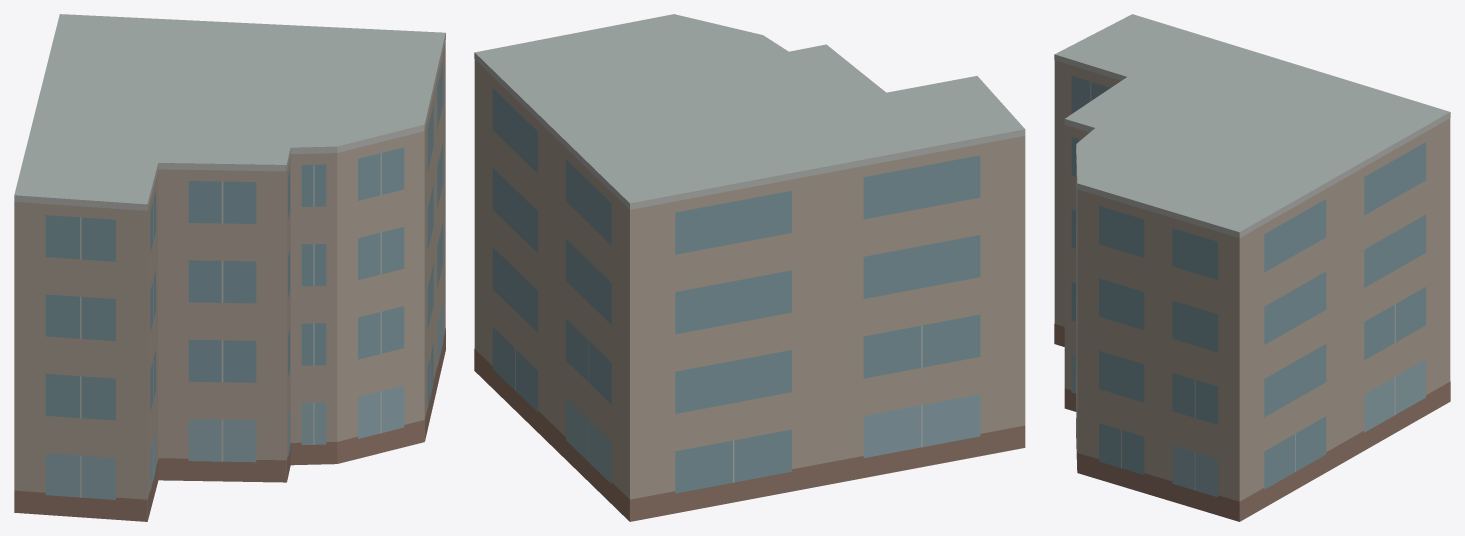
File: survey-upis-32867587.glb
3 views of the same model, side by side, from view 1: azimuth 30°, elevation 25°; view 2: azimuth 150°, elevation 25°; view 3: azimuth 270°, elevation 25° (orthographic). The views are drawn at different scales.
Visible parts, largest first — view 1: survey-upis-32867587.tmp; view 2: survey-upis-32867587.tmp; view 3: survey-upis-32867587.tmp.
Boxes of the visible parts, x1,y1,x2,y2 form: survey-upis-32867587.tmp: (14,14,445,521); survey-upis-32867587.tmp: (474,14,1025,521); survey-upis-32867587.tmp: (1054,14,1450,521).
Bounding box in the file's own units: 19.32 × 11.95 × 14.82.
